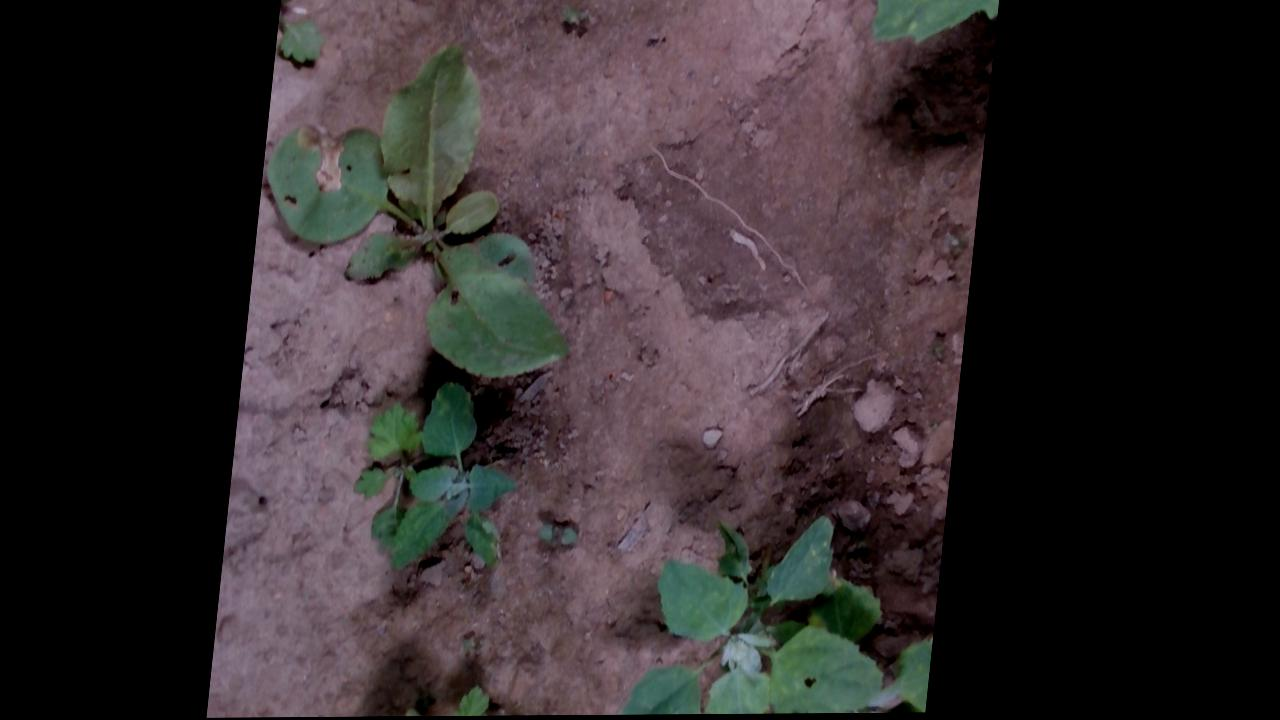weed: (545, 521, 596, 548), (557, 5, 593, 27), (646, 23, 673, 37)
